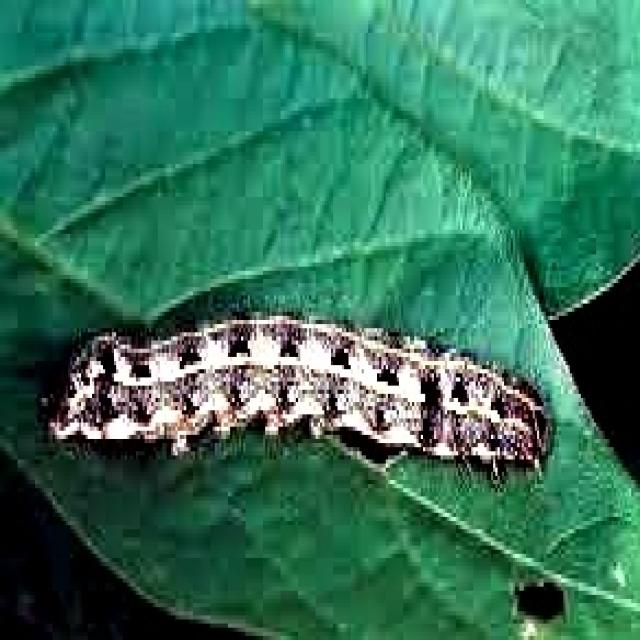armyworm: (44, 308, 552, 484)
